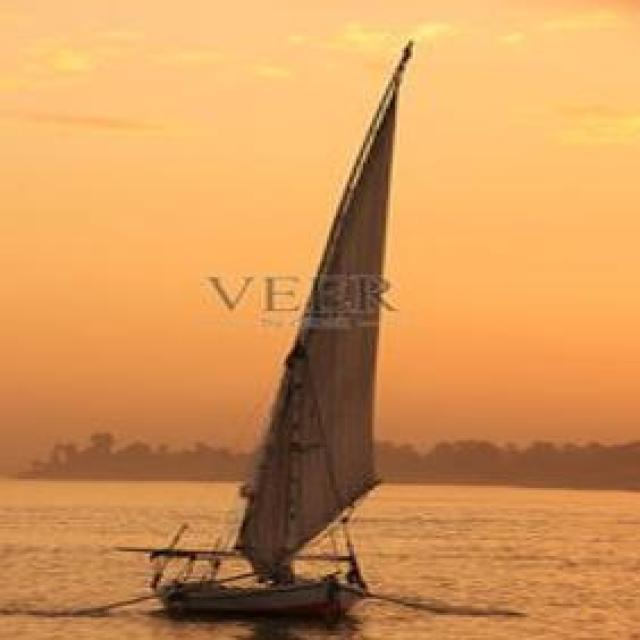sailboat: (145, 39, 420, 607)
